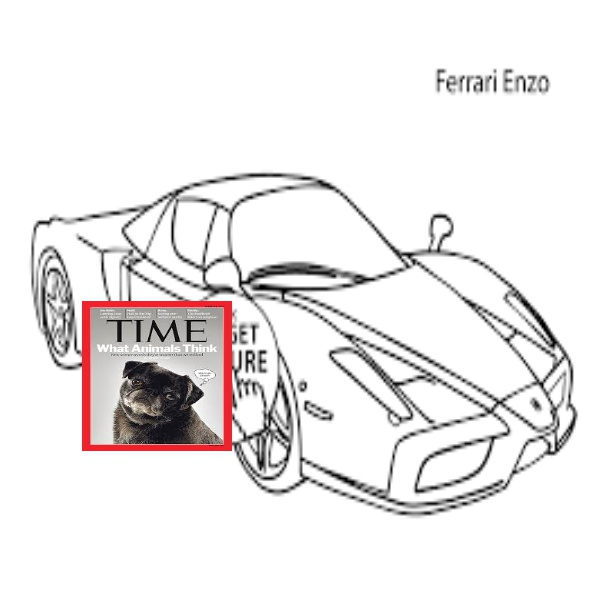time_cover: (78, 297, 241, 455)
